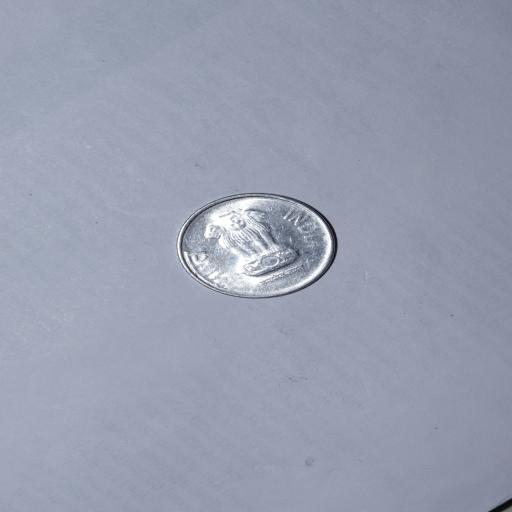rupee2: (175, 192, 339, 298)
